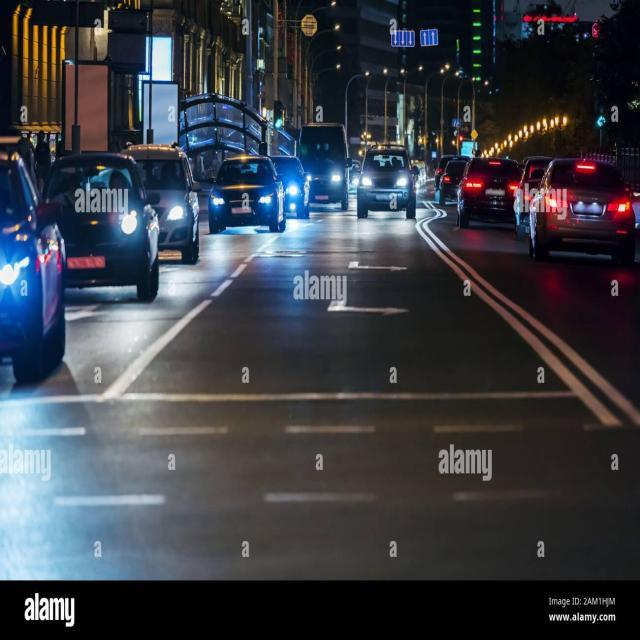headlights: (359, 166, 416, 200), (211, 189, 277, 216)
